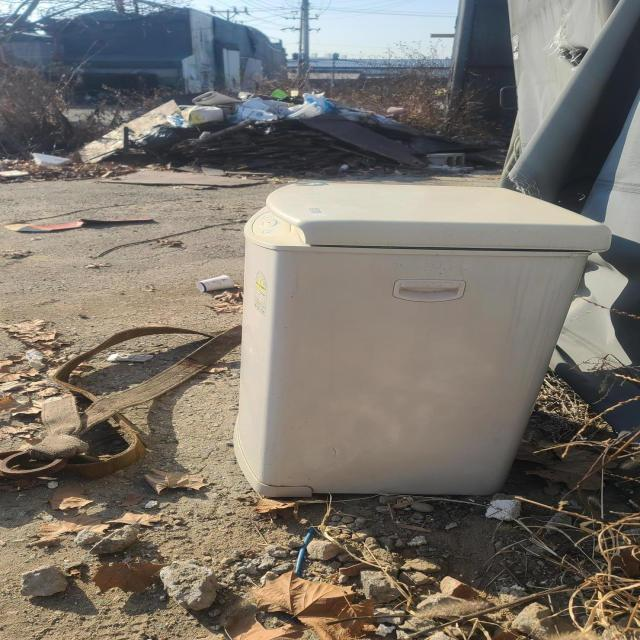refrigerator: (237, 175, 586, 507)
